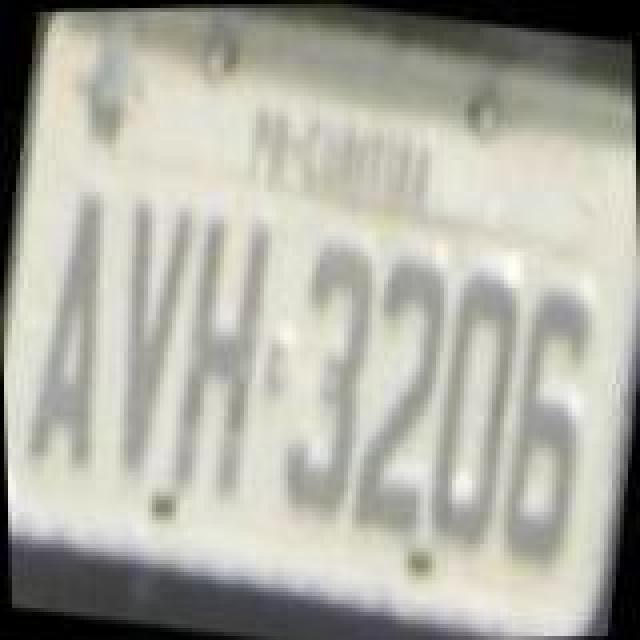2: (338, 242, 466, 542)
3: (264, 230, 388, 526)
6: (482, 270, 606, 570)
A: (10, 178, 134, 478)
H: (154, 208, 282, 508)
O: (408, 254, 532, 554)
V: (82, 186, 206, 482)
